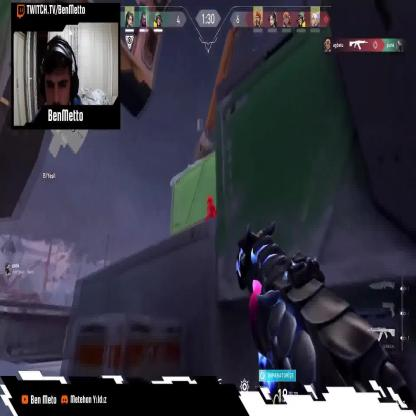enemy: (204, 194, 220, 225)
enemy_head: (207, 195, 213, 205)
